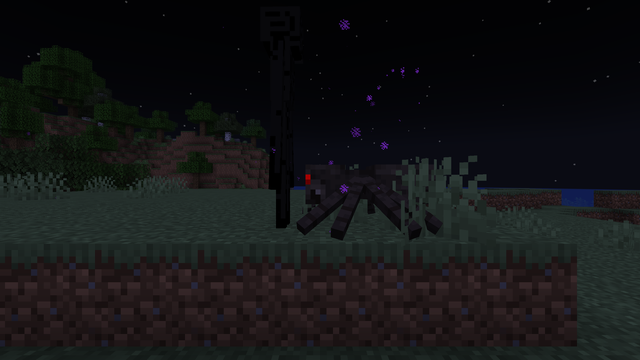araignees: (301, 154, 429, 236)
endermens: (255, 5, 305, 229)
